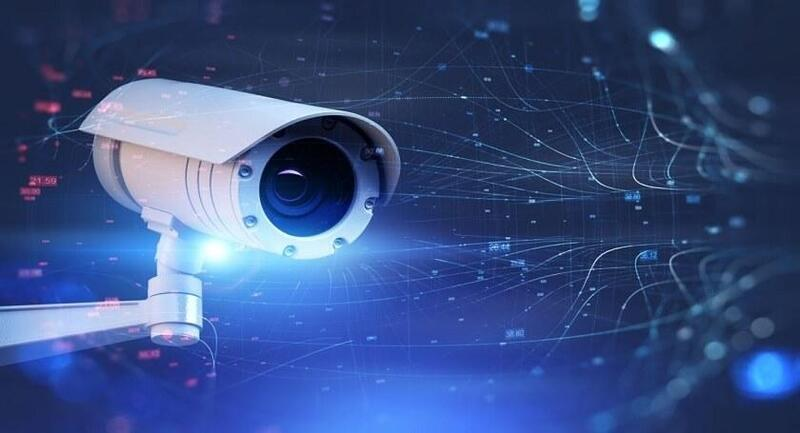bullet: (79, 75, 405, 256)
